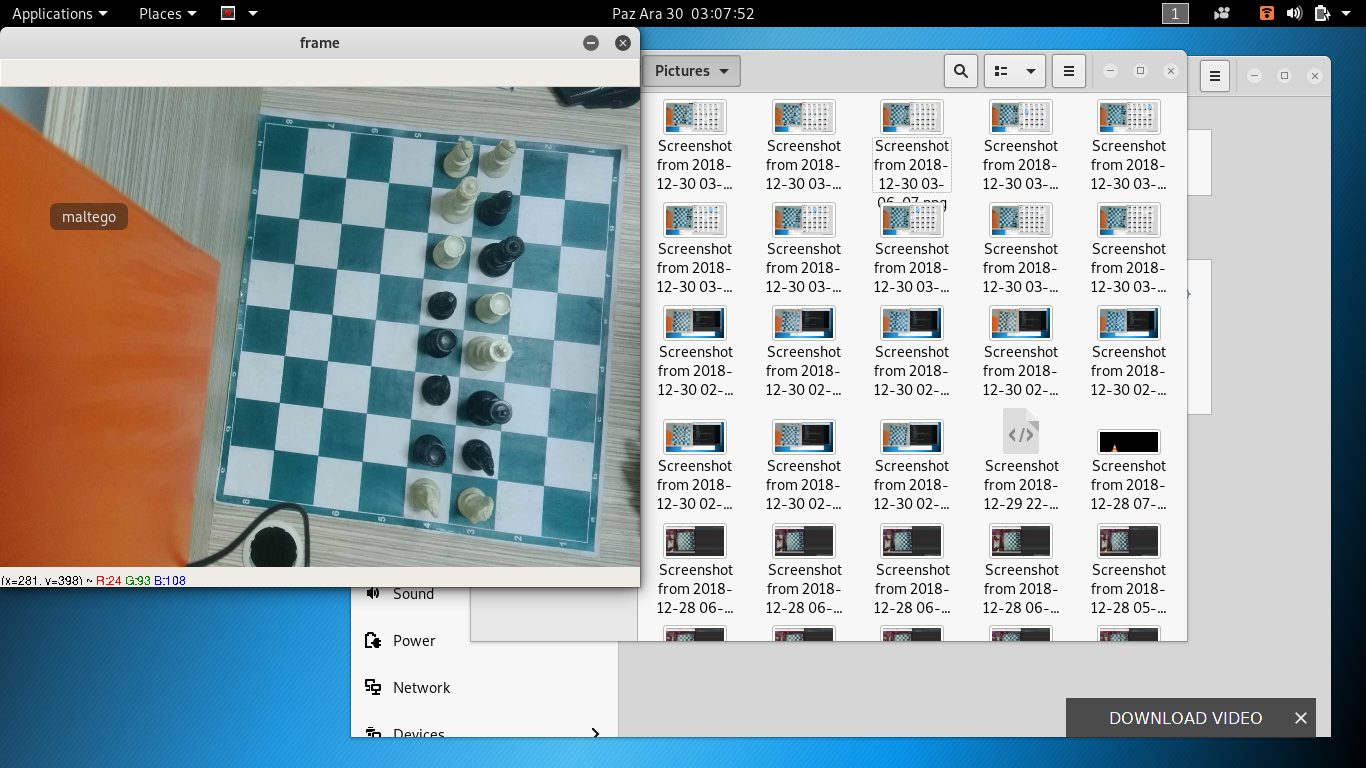BeyazAt: (406, 477, 444, 517), (457, 486, 494, 526)
BeyazFil: (482, 138, 515, 177), (441, 140, 474, 176)
BeyazKale: (474, 289, 511, 324), (432, 234, 465, 268)
BeyazSah: (467, 335, 511, 370)
BeyazVezir: (441, 177, 478, 222)
SiyahAt: (463, 440, 497, 473), (423, 372, 453, 407)
SiyahFil: (478, 189, 514, 225), (427, 289, 457, 319)
SiyahKale: (415, 433, 448, 467), (424, 326, 456, 357)
SiyahSah: (464, 390, 514, 426)
SiyahVezir: (477, 234, 525, 280)
